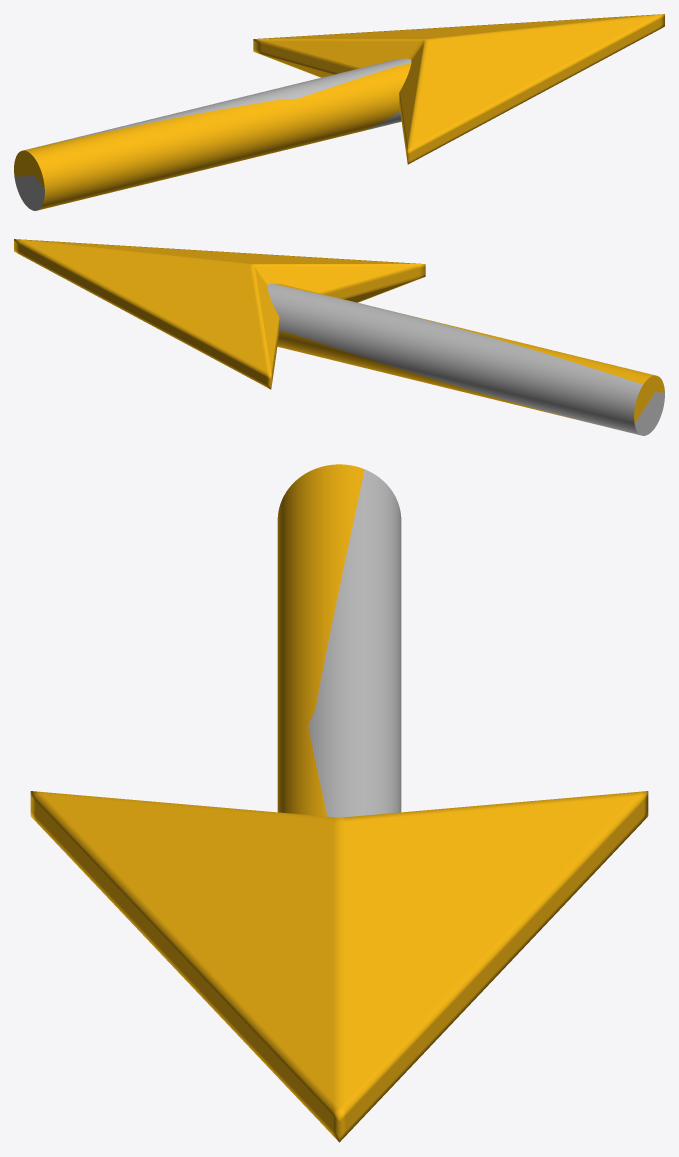
File: GPS_Navigation_Arrow_modified.obj
3 renders of one model, top to bottom at view 1: azimuth 30°, elevation 25°; view 2: azimuth 150°, elevation 25°; view 3: azimuth 270°, elevation 25°, orthographic. The views are drawn at different scales.
Parts seen in each view (by area): view 1: Cylinder, arrow; view 2: Cylinder, arrow; view 3: arrow, Cylinder.
Boxes of the visible parts, x1=… form: Cylinder: x1=14, y1=58, x2=411, y2=210; arrow: x1=253, y1=14, x2=664, y2=164; Cylinder: x1=267, y1=283, x2=664, y2=435; arrow: x1=14, y1=239, x2=425, y2=389; arrow: x1=30, y1=791, x2=648, y2=1142; Cylinder: x1=277, y1=464, x2=401, y2=817.
Size of the model in its own units: 95 by 11.23 by 40.
Materials: 1 (1 with a texture image).
